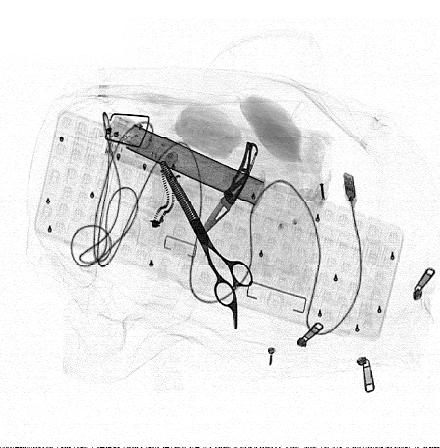Knife: (196, 141, 259, 238)
Scissors: (158, 160, 255, 330)
